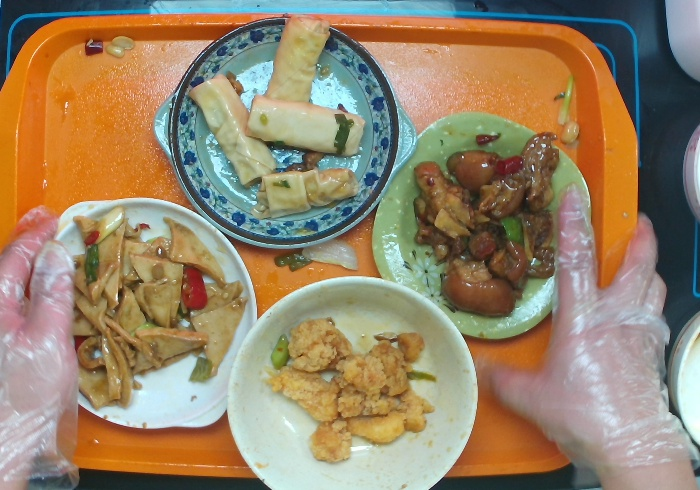NLDX-Bai_Se_Shuang_Er_Die: (42, 192, 260, 434)
NLDX-Bai_Se_Yuan_Wan: (223, 274, 484, 490)
NLDX-Lv_Hua_Fang_Die: (369, 106, 596, 342)
NLDX-Qing_Hua_Shuang_Er_Die: (153, 13, 421, 253)
